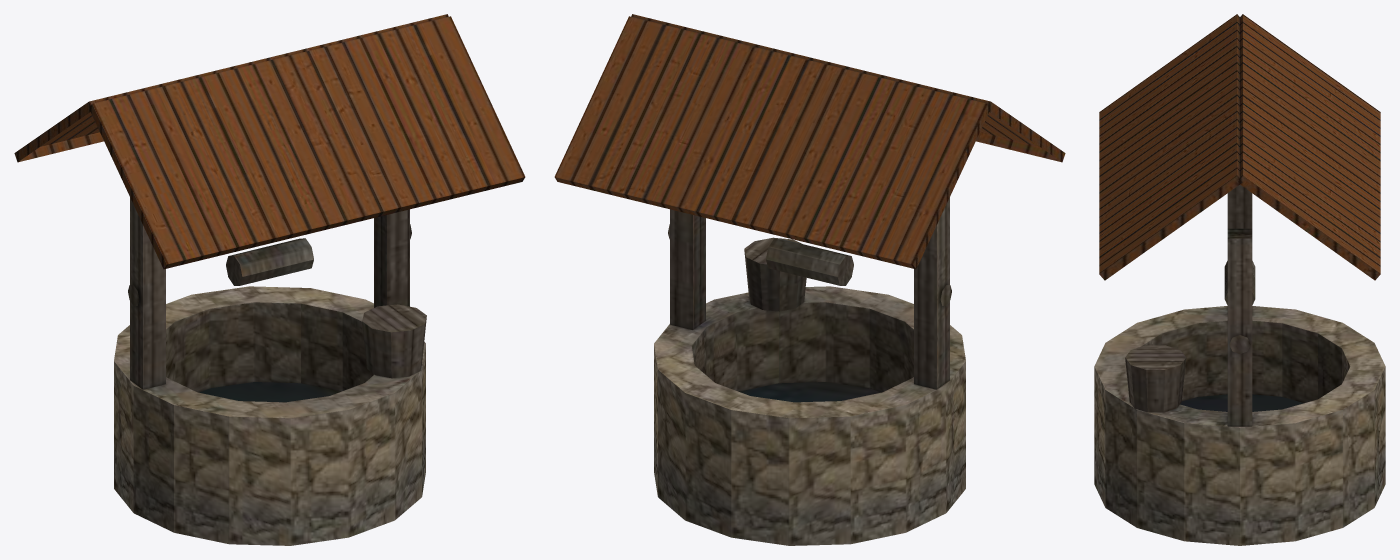
File: well.glb
3 renders of one model, left to right at view 1: azimuth 30°, elevation 25°; view 2: azimuth 150°, elevation 25°; view 3: azimuth 270°, elevation 25°, orthographic. The views are drawn at different scales.
Visible parts, largest first — view 1: well; view 2: well; view 3: well.
Part boxes in pixels (<box>): well: <box>14,14,525,545</box>; well: <box>554,14,1065,545</box>; well: <box>1094,14,1385,545</box>.
Bounding box in the file's own units: 2.5 × 2.8 × 1.9.
1 material, 1 textured.
